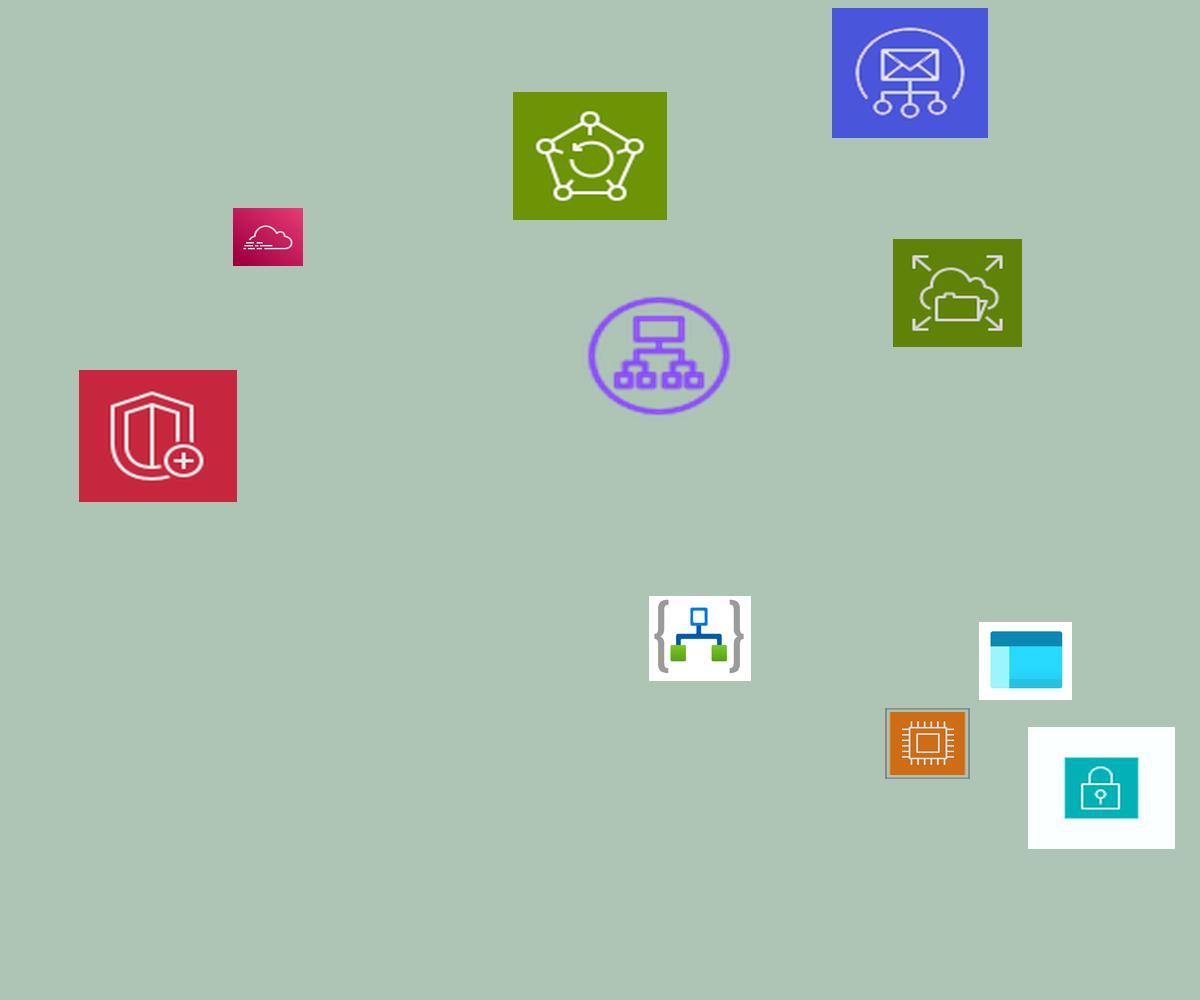AWS-Backup: (513, 92, 667, 220)
AWS-Category_Compute: (885, 708, 970, 779)
AWS-CloudTrail: (233, 208, 303, 266)
AWS-EFS: (893, 239, 1022, 347)
AWS-Private-subnet: (1028, 727, 1175, 849)
AWS-Res_Elastic-Load-Balancing_Application-Load-Balancer: (582, 292, 736, 420)
AWS-Shield: (79, 370, 237, 502)
AWS-Simple-Email-Service: (832, 8, 988, 138)
Azure_integration-204-Logic-Apps: (649, 596, 751, 681)
Azure_management-portal: (979, 622, 1072, 700)
